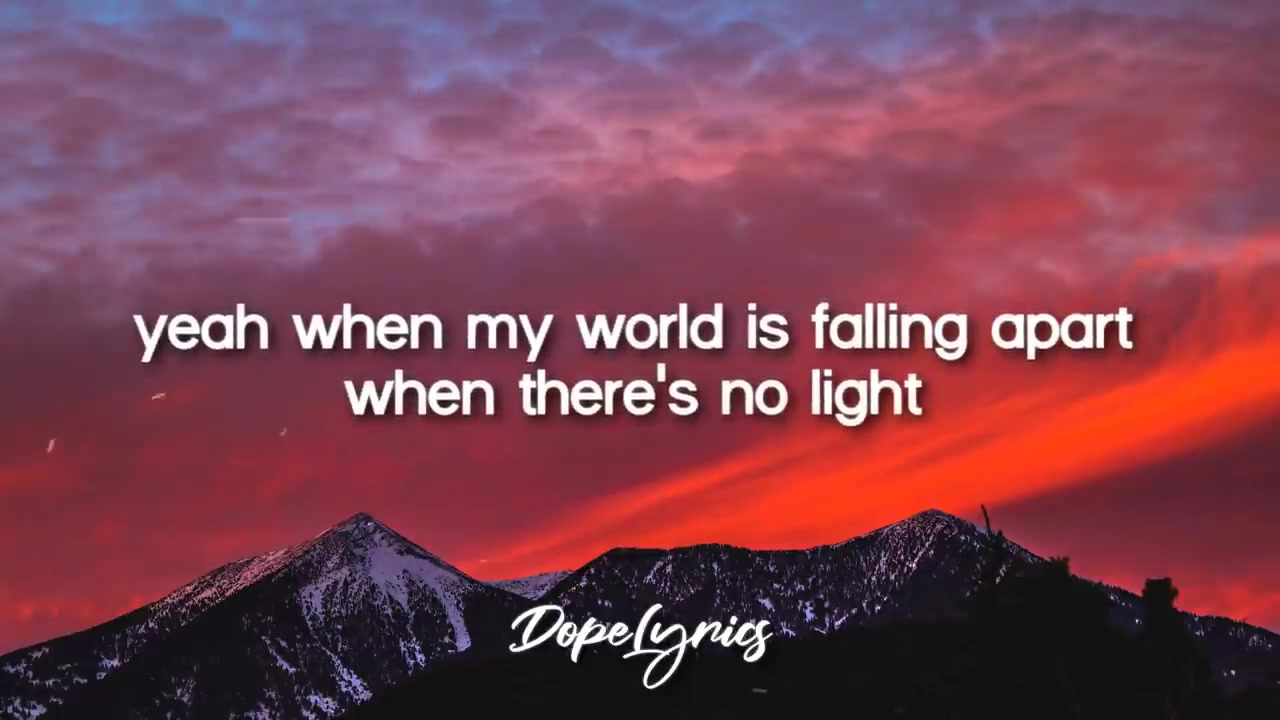text-label: (125, 300, 1139, 366), (339, 362, 935, 434)
